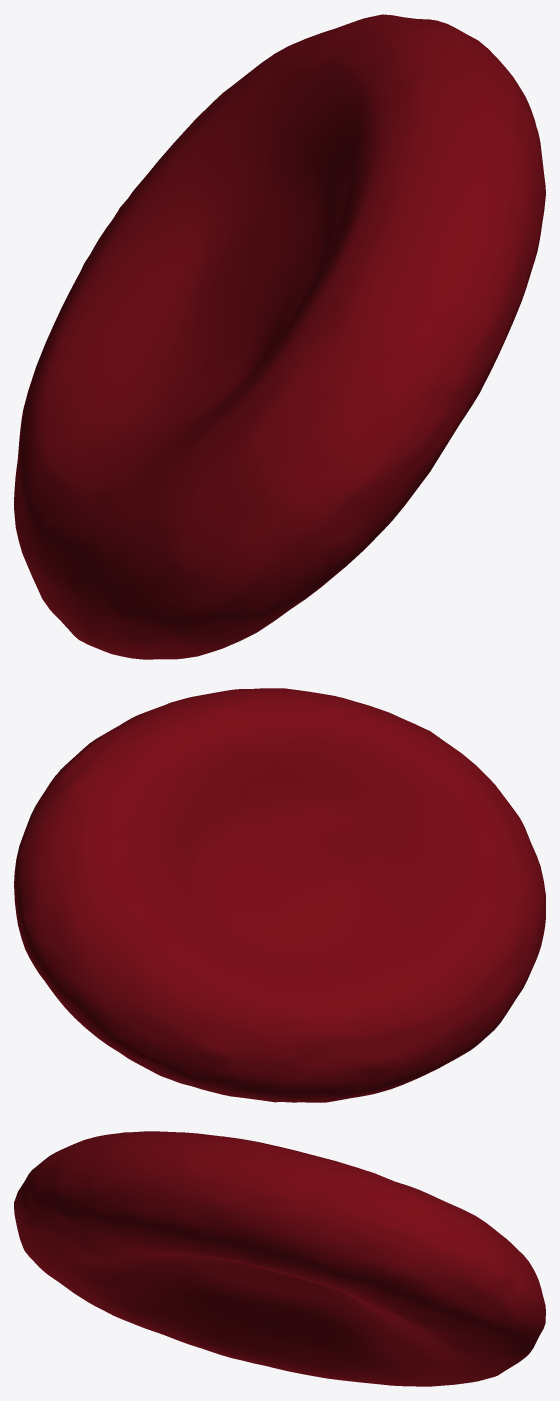
File: RBC.fbx
3 renders of one model, top to bottom at view 1: azimuth 30°, elevation 25°; view 2: azimuth 150°, elevation 25°; view 3: azimuth 270°, elevation 25°, orthographic. The views are drawn at different scales.
Parts seen in each view (by area): view 1: RBC; view 2: RBC; view 3: RBC.
Boxes of the visible parts, bbox=[...] form: RBC: bbox=[14, 14, 545, 659]; RBC: bbox=[14, 688, 545, 1102]; RBC: bbox=[14, 1131, 545, 1386].
Bounding box in the file's own units: 4008 × 3352 × 5118.
